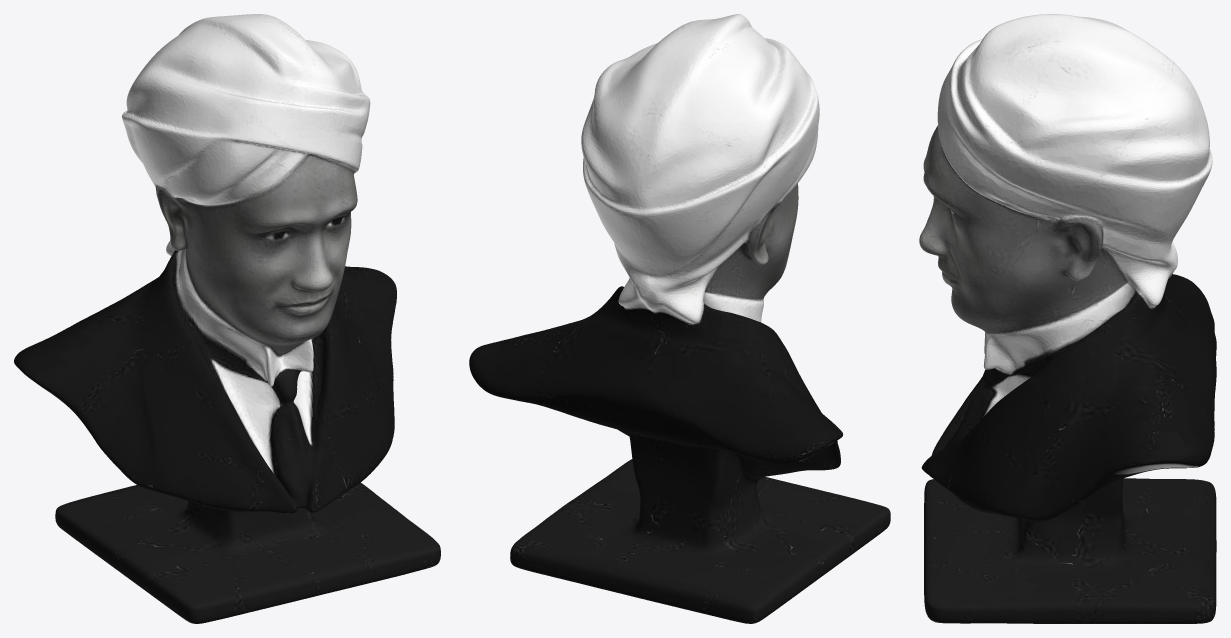
The model's file is raman.glb.
3 views of the same model, side by side, from view 1: azimuth 30°, elevation 25°; view 2: azimuth 150°, elevation 25°; view 3: azimuth 270°, elevation 25° (orthographic). The views are drawn at different scales.
Visible parts, largest first — view 1: Raman; view 2: Raman; view 3: Raman.
Boxes of the visible parts, bbox=[...] form: Raman: bbox=[14, 14, 440, 623]; Raman: bbox=[469, 14, 890, 623]; Raman: bbox=[919, 14, 1216, 623].
Bounding box in the file's own units: 1.39 × 1.9 × 0.9444.
Materials: 1 (1 with a texture image).
